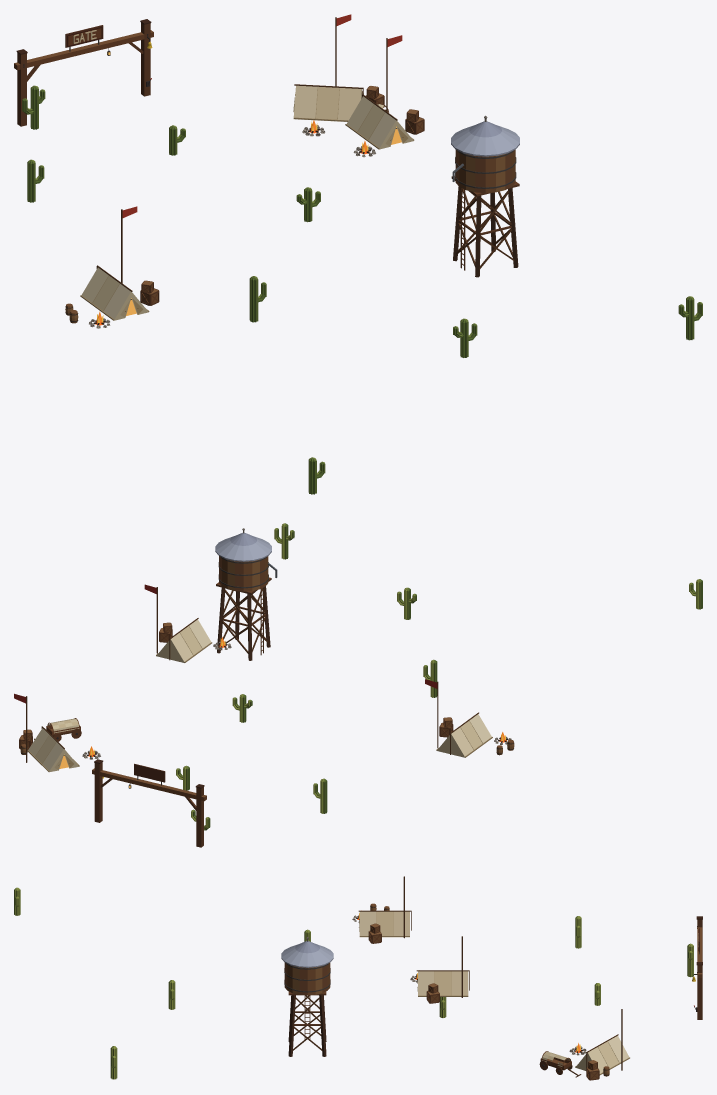
File: props.glb
The picture shows the model from 3 angles, top to bottom: view 1: azimuth 30°, elevation 25°; view 2: azimuth 150°, elevation 25°; view 3: azimuth 270°, elevation 25°; orthographic projection. The views are drawn at different scales.
Parts seen in each view (by area): view 1: props; view 2: props; view 3: props.
Boxes of the visible parts, <box> form: props: <box>14,14,702,494</box>; props: <box>14,523,702,847</box>; props: <box>14,876,702,1080</box>.
Size of the model in its own units: 41.89 by 13.05 by 71.21.
